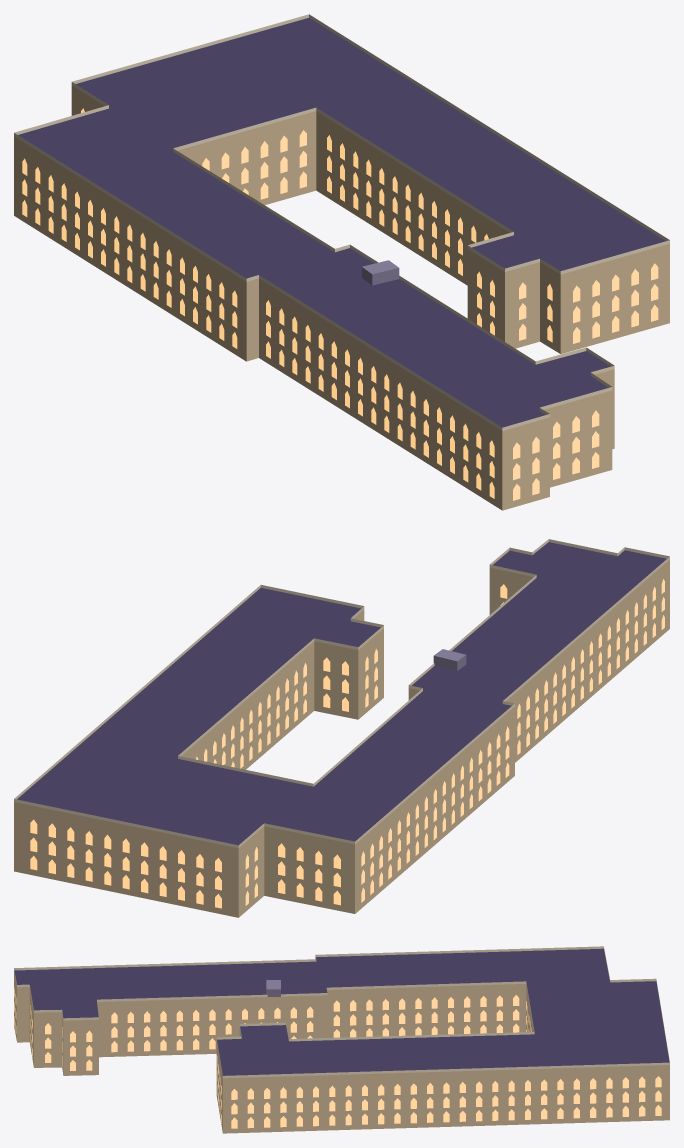
3 views of the same model, one above another, from view 1: azimuth 30°, elevation 25°; view 2: azimuth 150°, elevation 25°; view 3: azimuth 270°, elevation 25° (orthographic). The views are drawn at different scales.
Parts seen in each view (by area): view 1: campus/b-119-0; view 2: campus/b-119-0; view 3: campus/b-119-0.
Part boxes in pixels (x1,y1,x2,y2): campus/b-119-0: (14,14,669,510); campus/b-119-0: (14,539,669,917); campus/b-119-0: (14,946,669,1133).
Size of the model in its own units: 63.76 by 14.5 by 136.
